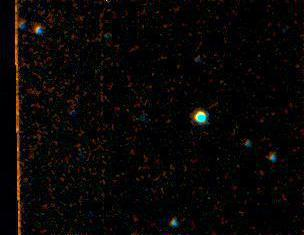star: (189, 101, 219, 131)
